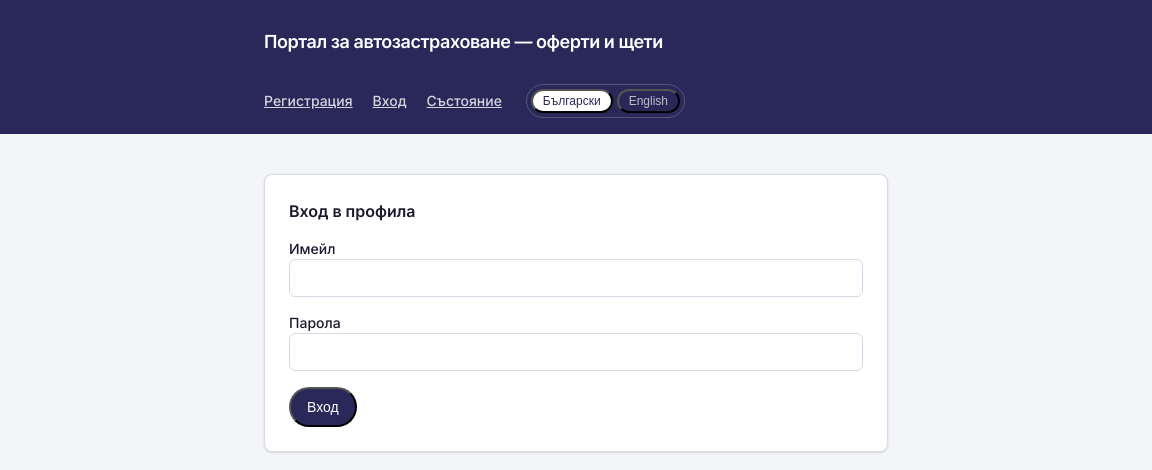
LanguageToggle › switches the chrome to English immediately and updates <html lang>
Click the button "English" at point(648, 101), box [617, 89, 680, 113]
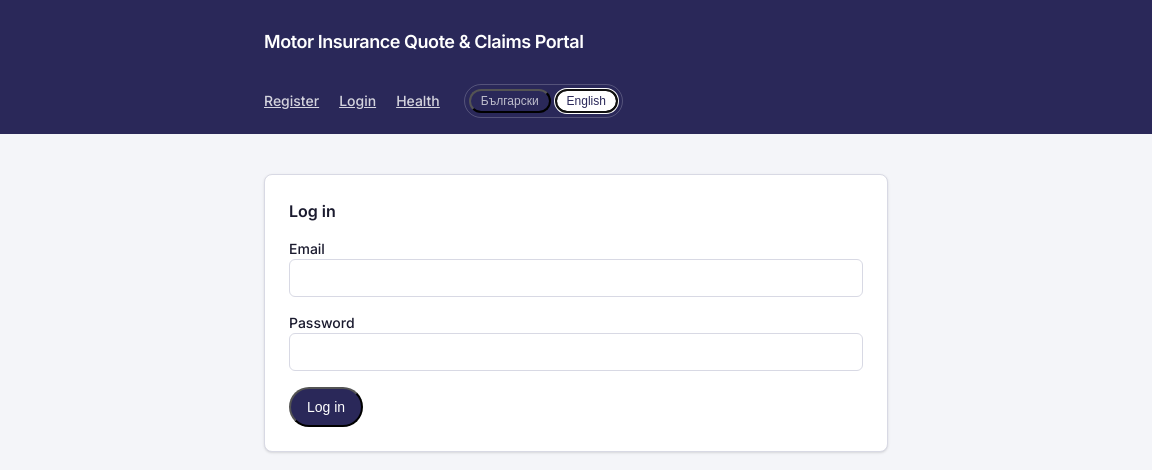
Check: the link "Register" is shown, box [264, 91, 319, 111]
Check: the heading "Motor Insurance Quote & Claims Portal" is shown, box [264, 28, 583, 56]
